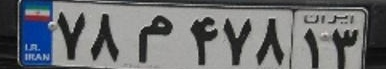character: (134, 10, 178, 64), (89, 7, 124, 69), (54, 6, 89, 64), (255, 12, 290, 69), (187, 10, 221, 67), (223, 10, 255, 67), (329, 25, 361, 69), (301, 24, 324, 69)
